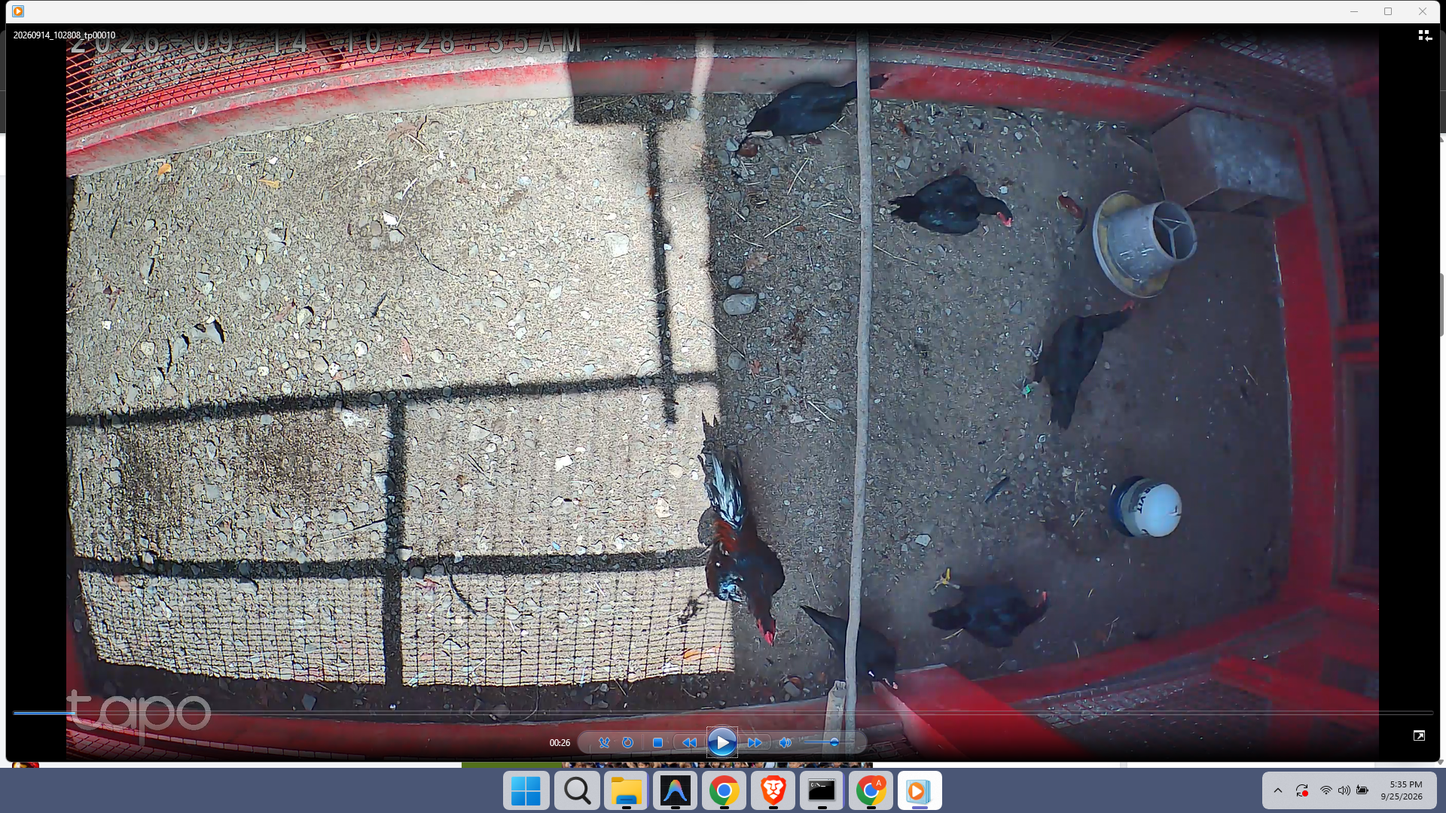Chicken: (1011, 298, 1136, 429), (743, 68, 895, 141), (925, 566, 1051, 644), (798, 603, 901, 692), (883, 173, 1016, 237)
Drinker: (1108, 473, 1184, 540)
Feeder: (1092, 184, 1198, 301)
Leg_Band_Green: (1020, 382, 1035, 395)
Leg_Band_Yellow: (943, 568, 951, 586)
Rooster: (702, 443, 798, 646)
